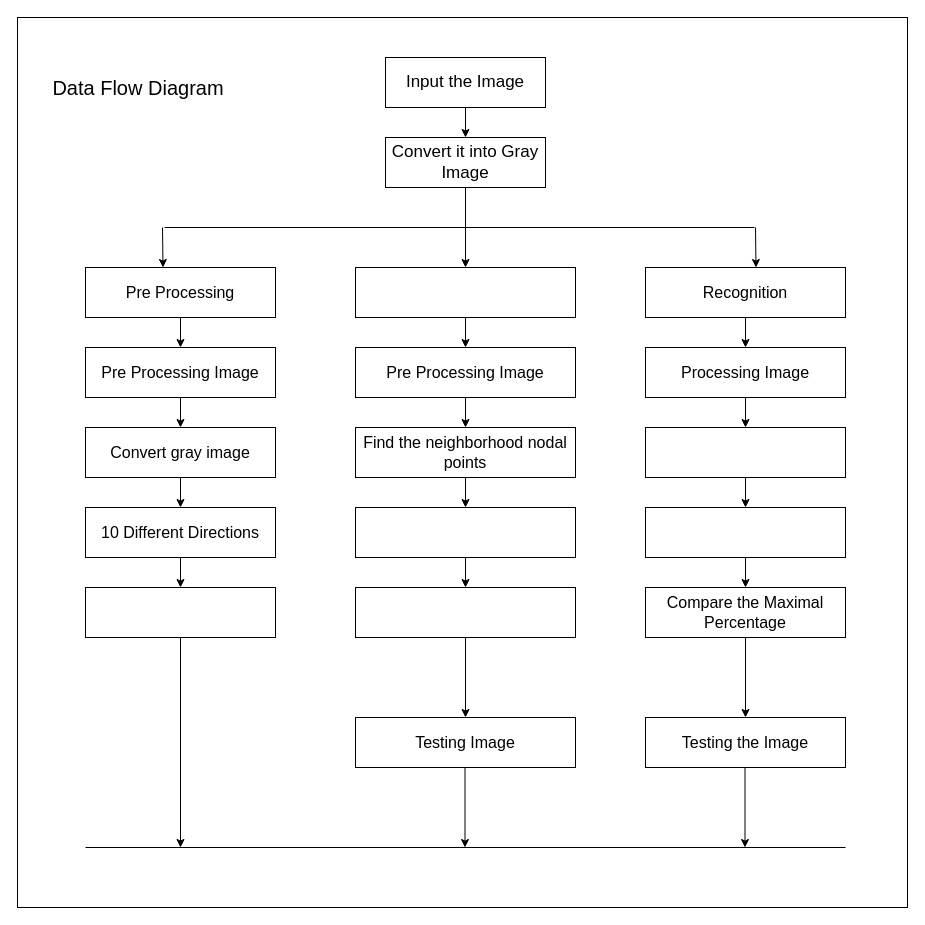
The diagram is 925 pixels wide and 925 high, and some of its shapes have lost their labels. The shapes that lost their labels are listed below. From the top down, each one's centre as x and y in pixels, then its label:
point 465,292: Processing
point 745,452: Retrive the Stored Image
point 465,532: Find the nodal points
point 745,532: Compare both Images
point 180,612: 28 Dimensions
point 465,612: Compare the image
